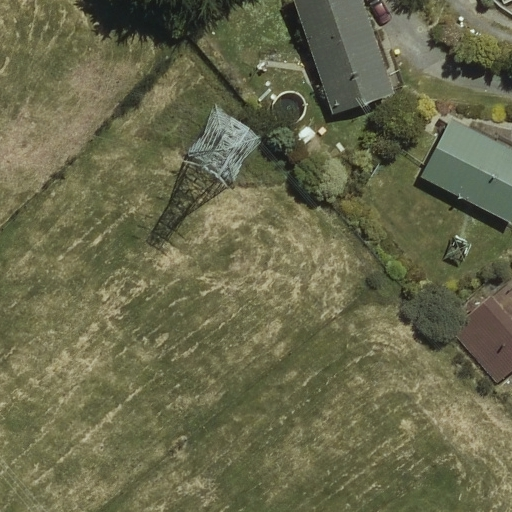TT: (176, 101, 272, 194)
